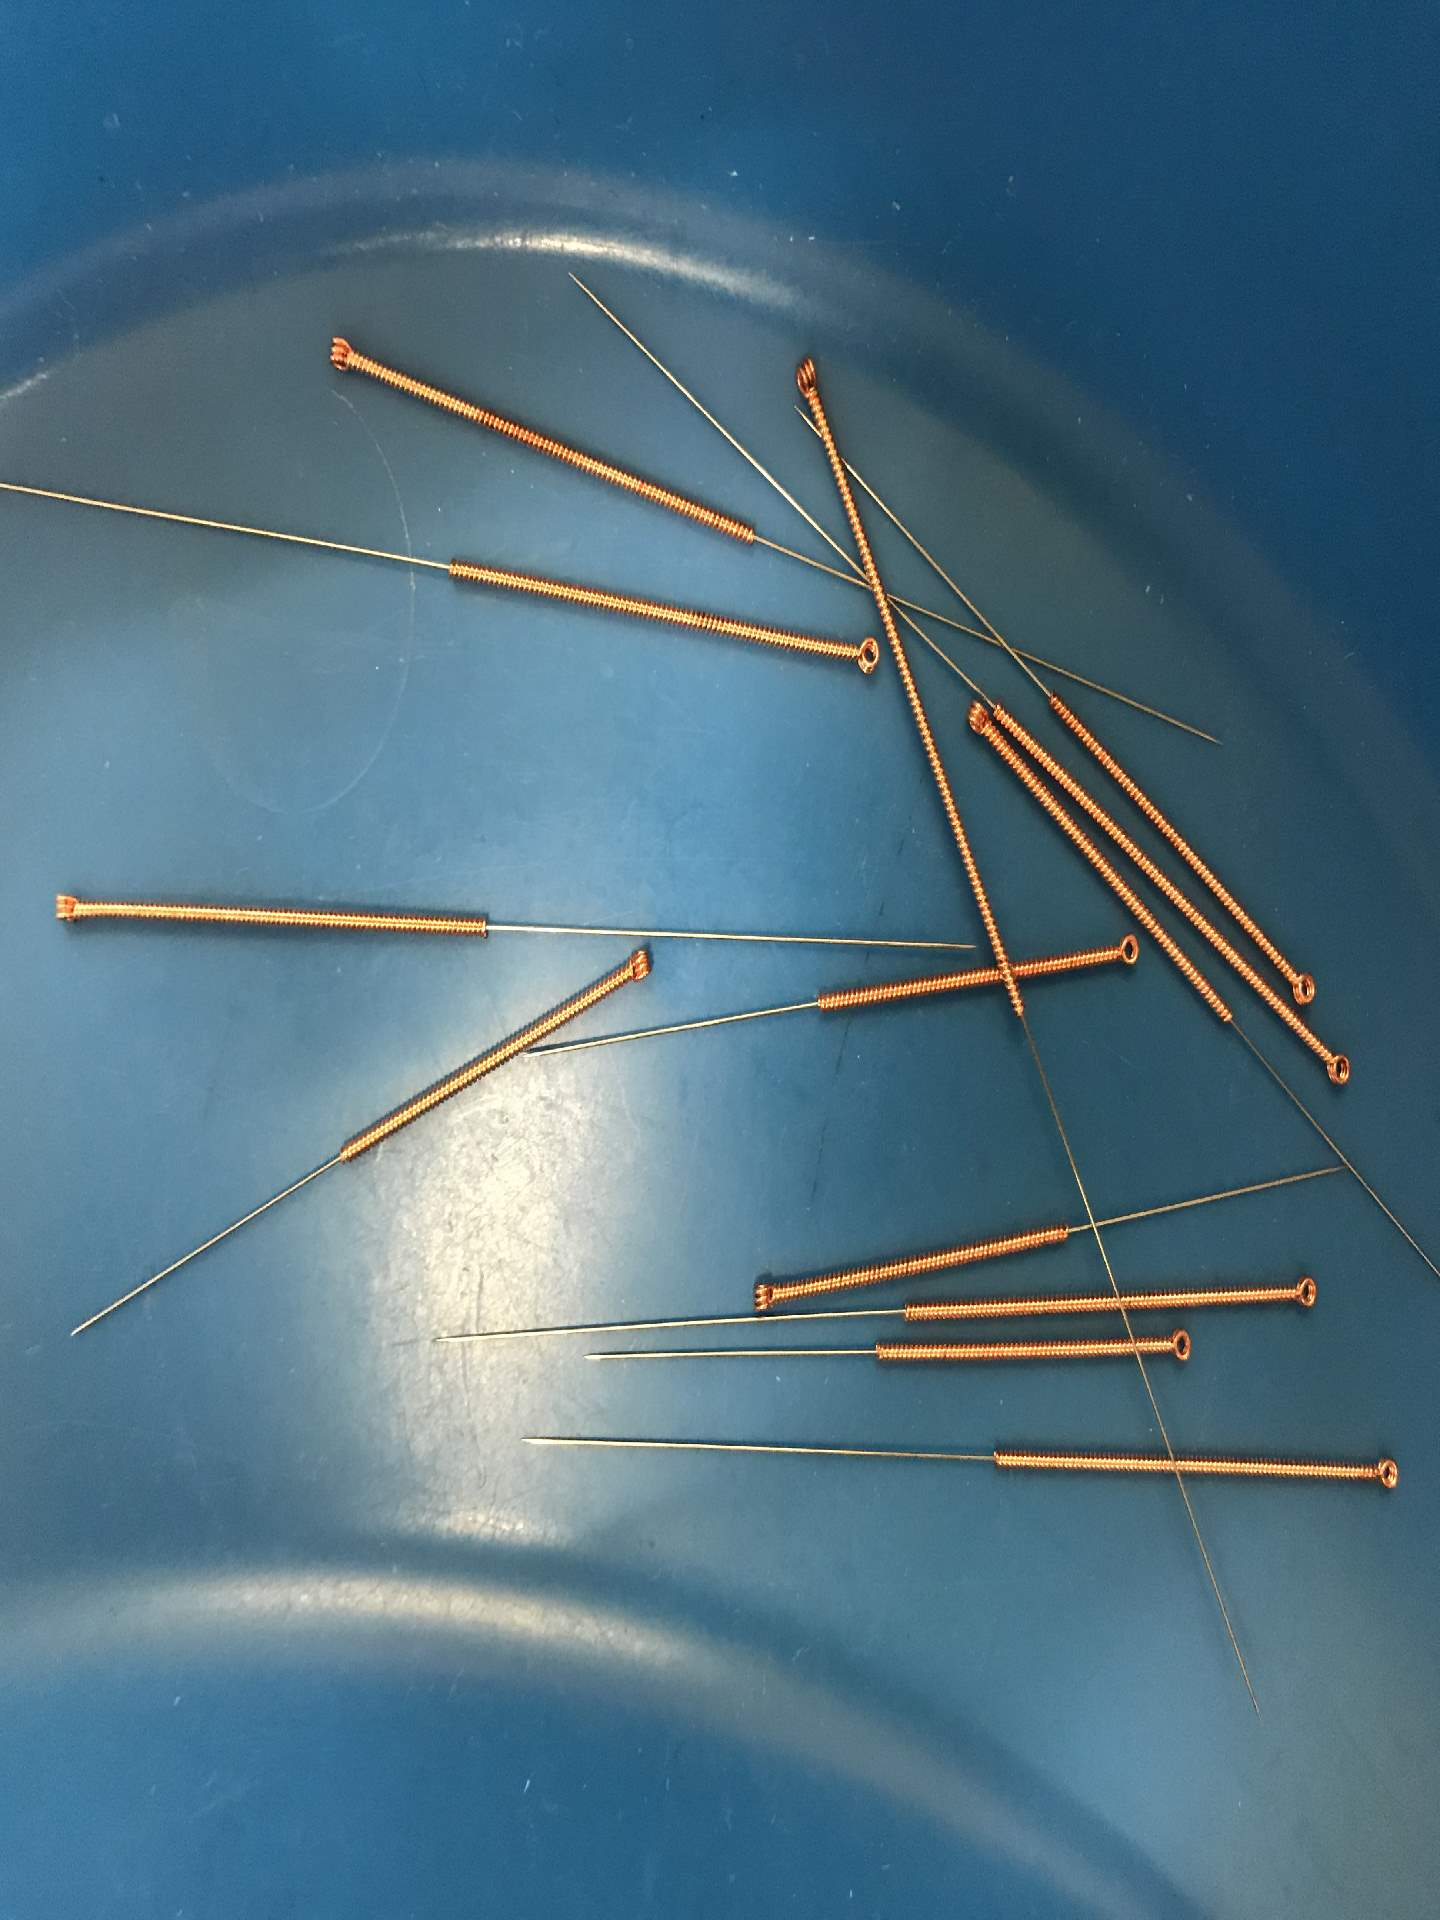needle: (313, 324, 374, 389), (779, 346, 833, 414), (36, 878, 97, 939), (1349, 1444, 1414, 1500), (1305, 1039, 1367, 1096), (1271, 1262, 1331, 1320), (732, 1268, 799, 1318), (830, 629, 886, 683), (613, 936, 666, 992), (1281, 948, 1327, 1010), (957, 686, 1001, 750), (1154, 1321, 1206, 1370), (1100, 927, 1147, 980)
